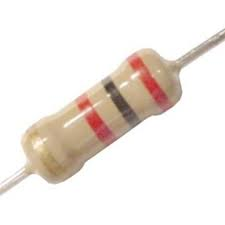resistor: (6, 47, 205, 208)
